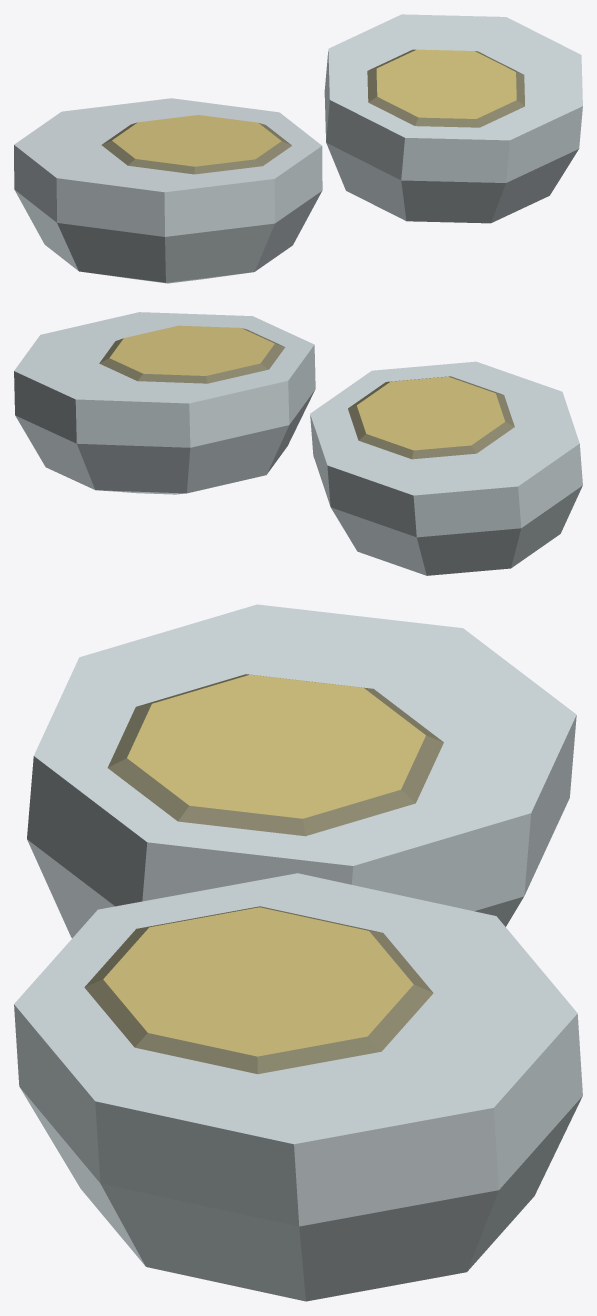
The model's file is Sliced Egg.fbx.
The picture shows the model from 3 angles, top to bottom: view 1: azimuth 30°, elevation 25°; view 2: azimuth 150°, elevation 25°; view 3: azimuth 270°, elevation 25°; orthographic projection. The views are drawn at different scales.
Parts seen in each view (by area): view 1: Sliced Egg; view 2: Sliced Egg; view 3: Sliced Egg.
Boxes of the visible parts, <box> form: Sliced Egg: <box>14,14,582,283</box>; Sliced Egg: <box>14,312,582,575</box>; Sliced Egg: <box>14,604,582,1301</box>.
Bounding box in the file's own units: 80.41 × 18.85 × 37.64.
